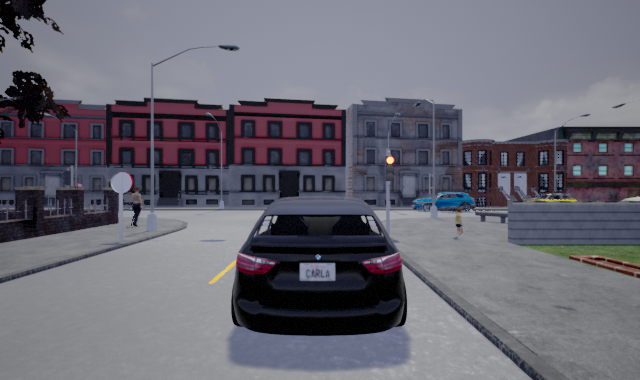pedestrian: (126, 185, 147, 226), (448, 205, 470, 239)
vehicle: (231, 196, 408, 335), (408, 191, 478, 213), (527, 192, 580, 211)
